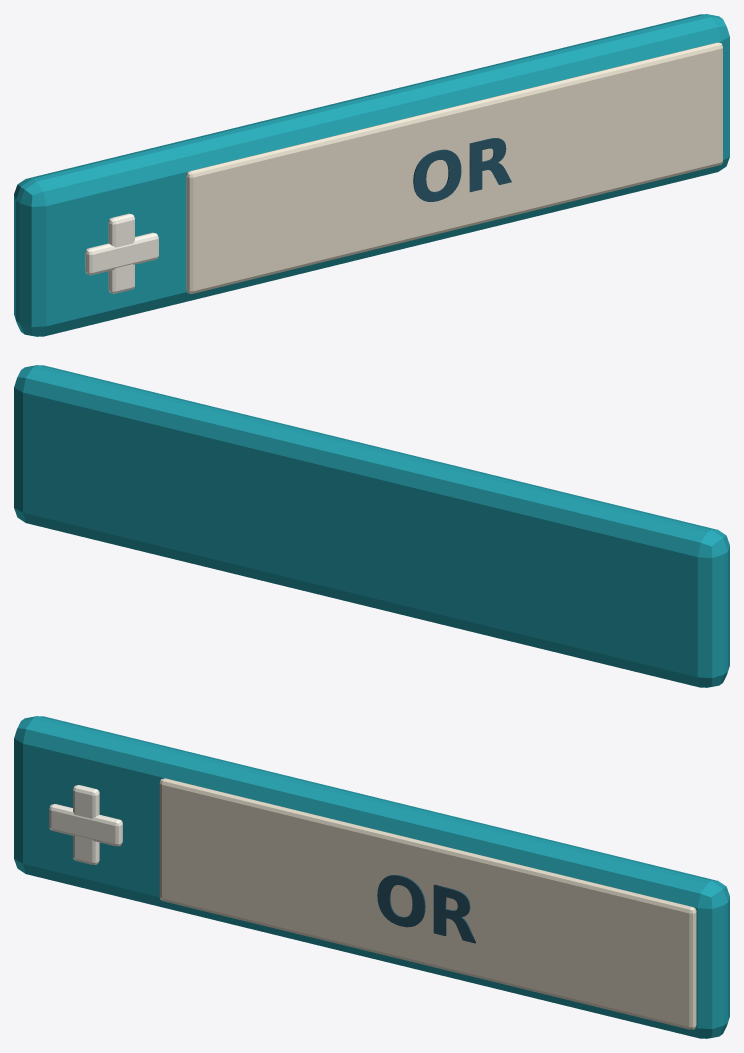
Rendered from Clinical_Sign_OR.glb.
The picture shows the model from 3 angles, top to bottom: view 1: azimuth 30°, elevation 25°; view 2: azimuth 150°, elevation 25°; view 3: azimuth 330°, elevation 25°; orthographic projection.
Parts seen in each view (by area): view 1: Clinical_Sign_OR_OR_Cream, Clinical_Sign_OR_OR_Teal, Clinical_Sign_OR_OR_Paper, Clinical_Sign_OR_OR_Navy; view 2: Clinical_Sign_OR_OR_Teal; view 3: Clinical_Sign_OR_OR_Cream, Clinical_Sign_OR_OR_Teal, Clinical_Sign_OR_OR_Paper, Clinical_Sign_OR_OR_Navy.
Part boxes in pixels (x1,y1,x2,y2): Clinical_Sign_OR_OR_Cream: (186, 42, 722, 293); Clinical_Sign_OR_OR_Teal: (14, 14, 729, 336); Clinical_Sign_OR_OR_Paper: (85, 213, 158, 293); Clinical_Sign_OR_OR_Navy: (413, 138, 511, 201); Clinical_Sign_OR_OR_Teal: (14, 365, 729, 687); Clinical_Sign_OR_OR_Cream: (159, 778, 696, 1029); Clinical_Sign_OR_OR_Teal: (14, 716, 729, 1038); Clinical_Sign_OR_OR_Paper: (49, 785, 122, 864); Clinical_Sign_OR_OR_Navy: (377, 875, 475, 943).
Size of the model in its own units: 1.48 by 0.31 by 0.117.
